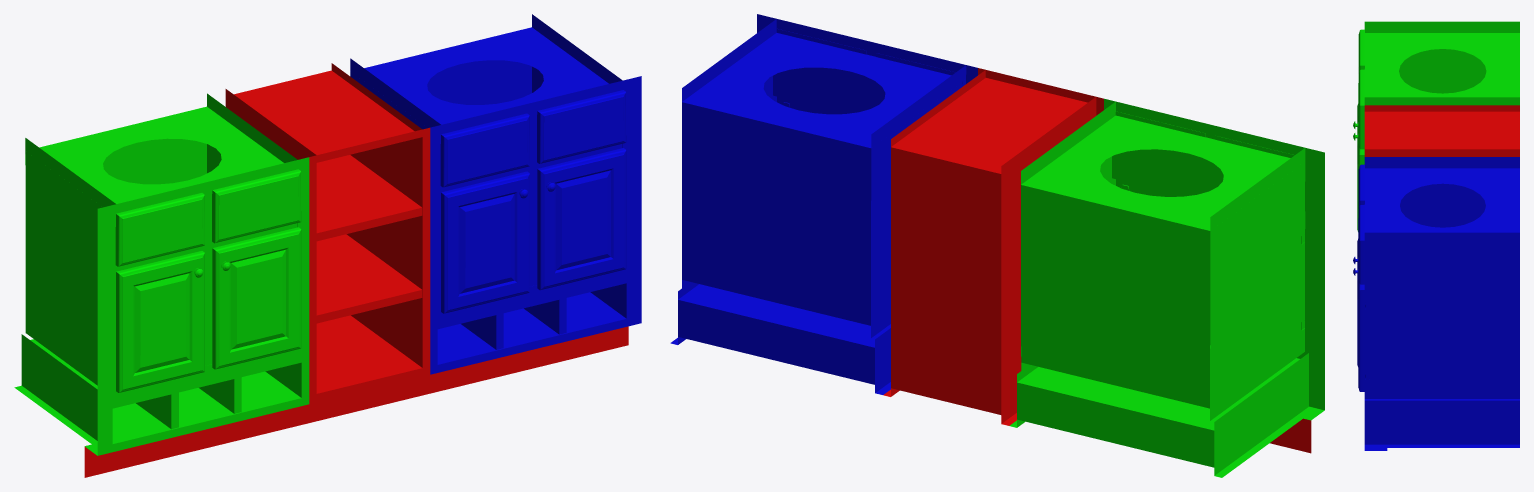
Rendered from bathroomCabinet_1.fbx.
3 renders of one model, left to right at view 1: azimuth 30°, elevation 25°; view 2: azimuth 150°, elevation 25°; view 3: azimuth 270°, elevation 25°, orthographic. The views are drawn at different scales.
Parts seen in each view (by area): view 1: cabinet_left_1, cabinet_center_1, cabinet_right_1, cabinet_right_door_right_1, cabinet_left_door_right_1, cabinet_right_door_left_1, cabinet_left_door_left_1; view 2: cabinet_left_1, cabinet_right_1, cabinet_center_1; view 3: cabinet_right_1, cabinet_left_1, cabinet_center_1, cabinet_right_door_right_1, cabinet_left_door_right_1.
Part boxes in pixels (x1=…): cabinet_left_1: x1=14, y1=93, x2=309, y2=455; cabinet_center_1: x1=84, y1=63, x2=628, y2=477; cabinet_right_1: x1=350, y1=14, x2=641, y2=374; cabinet_right_door_right_1: x1=537, y1=148, x2=626, y2=290; cabinet_left_door_right_1: x1=212, y1=227, x2=301, y2=369; cabinet_right_door_left_1: x1=441, y1=171, x2=529, y2=313; cabinet_left_door_left_1: x1=116, y1=251, x2=204, y2=392; cabinet_left_1: x1=1009, y1=98, x2=1324, y2=477; cabinet_right_1: x1=670, y1=14, x2=977, y2=394; cabinet_center_1: x1=883, y1=68, x2=1311, y2=453; cabinet_right_1: x1=1358, y1=157, x2=1519, y2=450; cabinet_left_1: x1=1358, y1=21, x2=1519, y2=149; cabinet_center_1: x1=1364, y1=105, x2=1519, y2=156; cabinet_right_door_right_1: x1=1353, y1=258, x2=1364, y2=391; cabinet_left_door_right_1: x1=1353, y1=123, x2=1364, y2=231.
Size of the model in its own units: 183 by 89.54 by 56.94.
